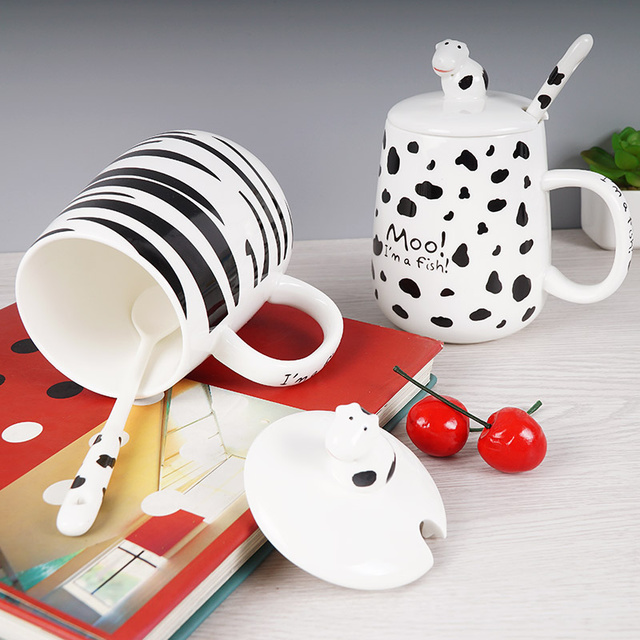cup: (14, 127, 344, 402), (368, 82, 634, 346)
